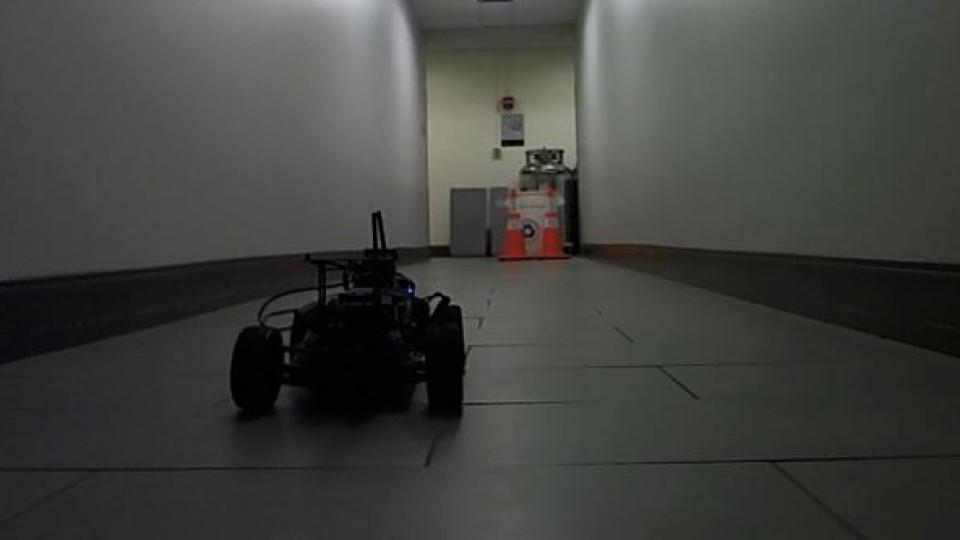car: (227, 208, 472, 420)
